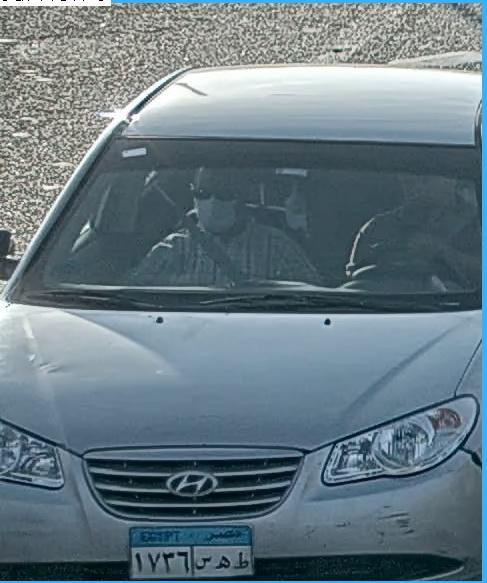windshield: (0, 117, 482, 317)
